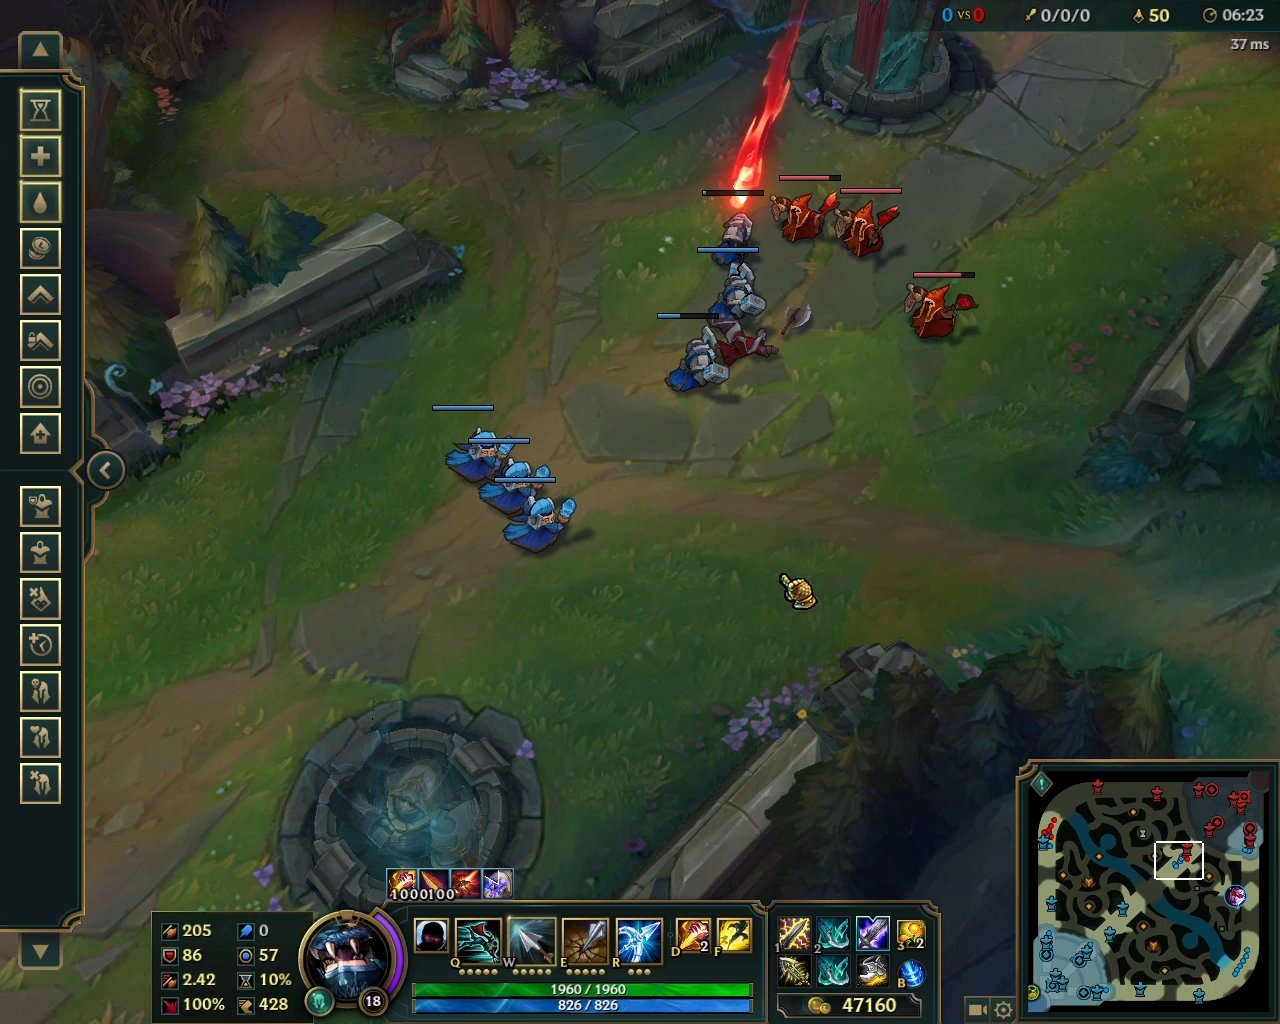EnemyMinion: (829, 187, 908, 262), (897, 271, 978, 343), (766, 173, 844, 248)
